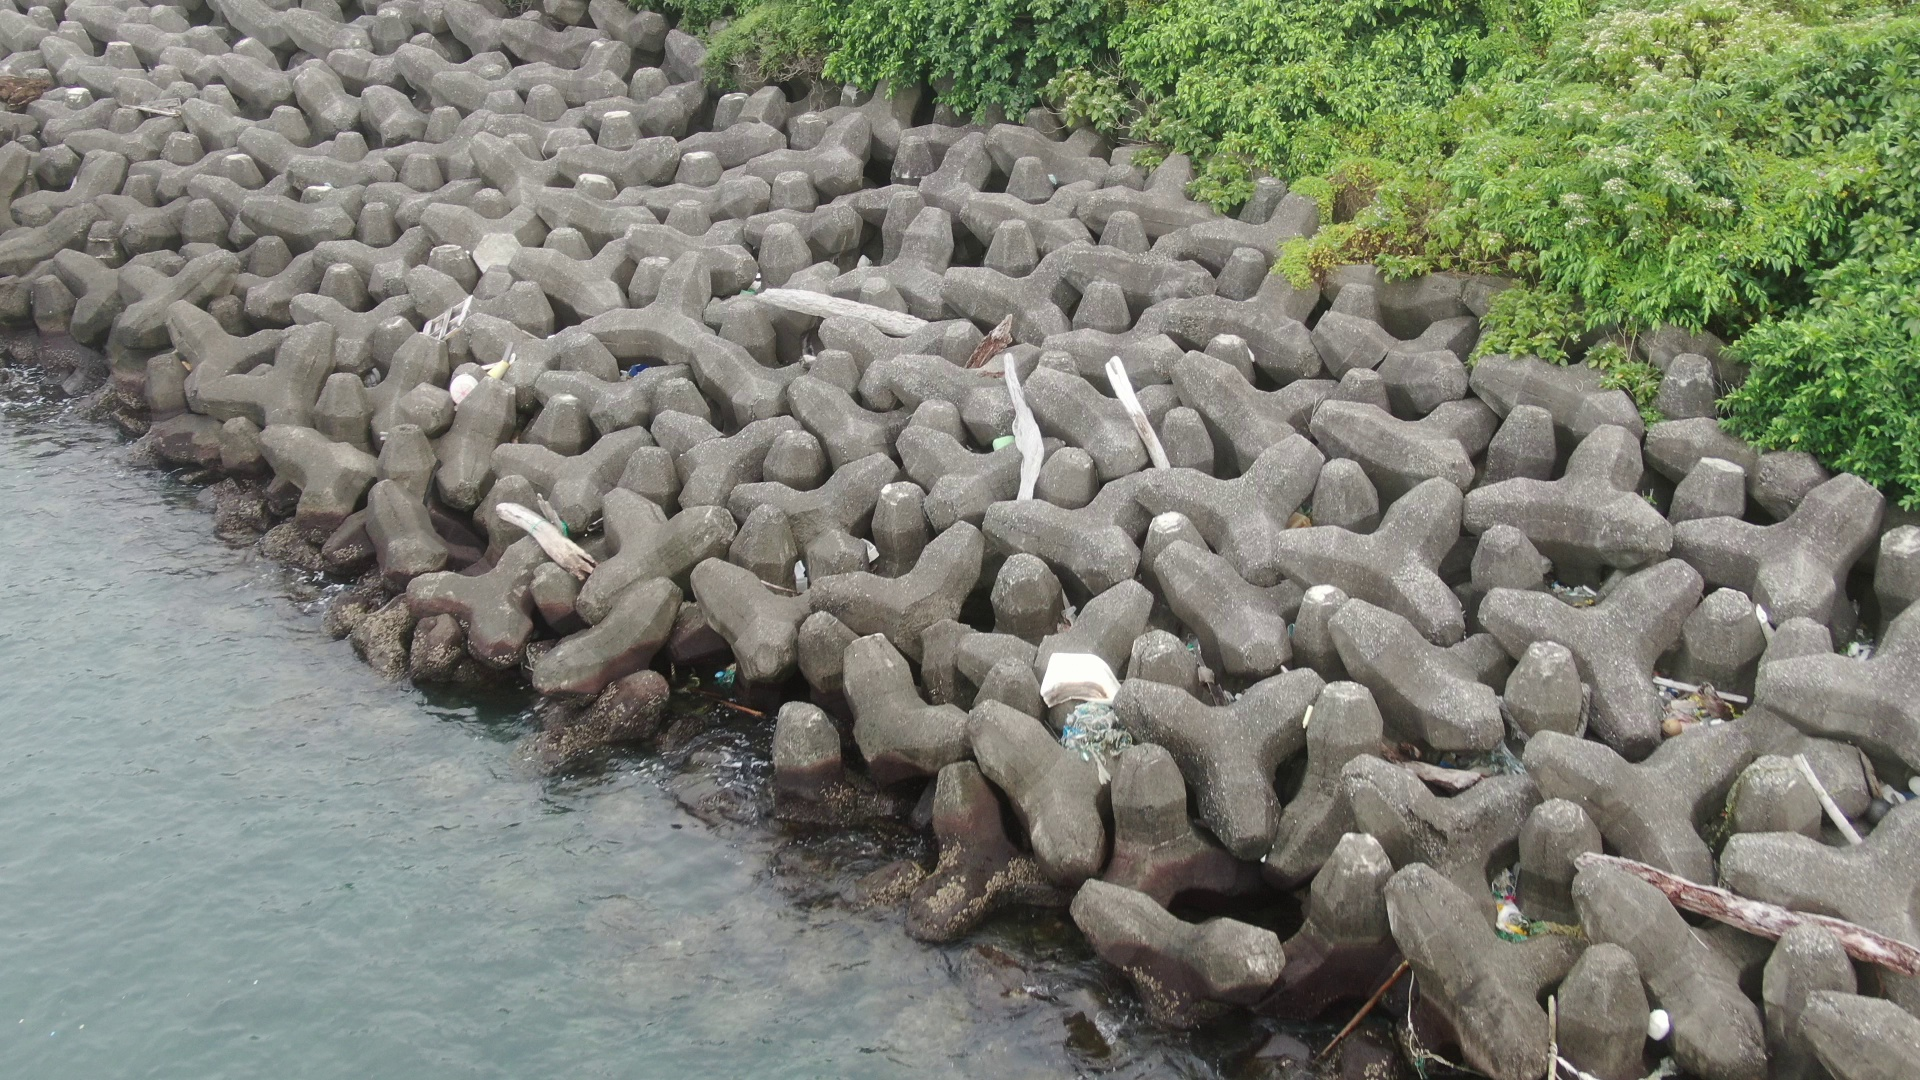garbage: (1036, 645, 1145, 786), (1482, 862, 1545, 957), (446, 349, 524, 417), (423, 291, 477, 349), (611, 356, 651, 401), (1648, 1007, 1680, 1051), (986, 426, 1021, 452)
